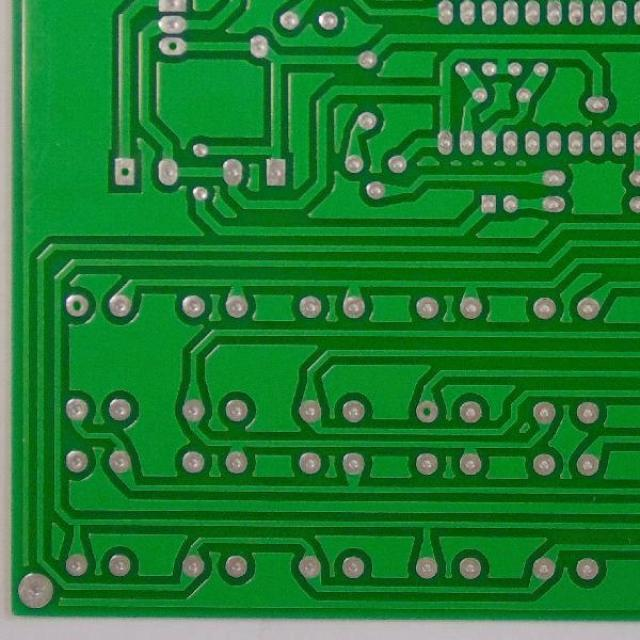Missing_Hole: (112, 154, 137, 187), (156, 35, 186, 58), (64, 293, 90, 318), (413, 399, 440, 423)
